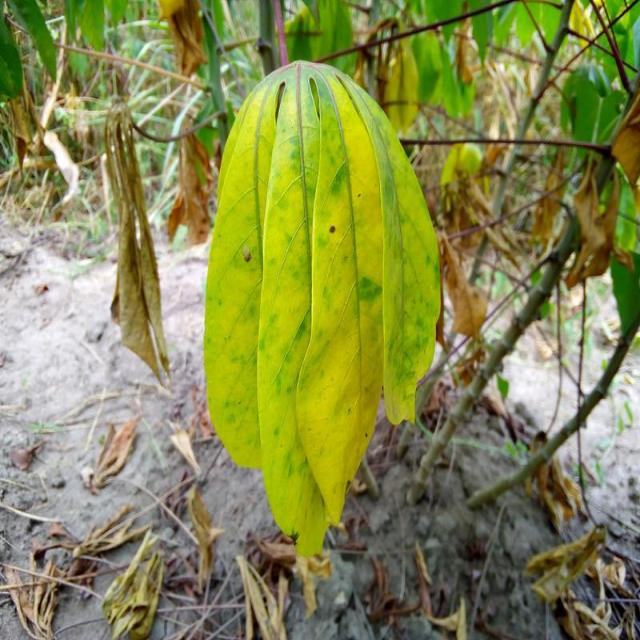cassava leaf: (202, 58, 443, 556)
